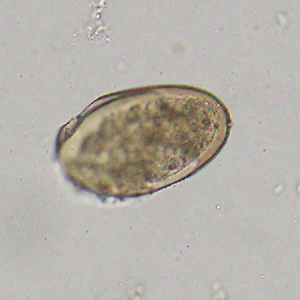Fasciola_hepatica_egg: (54, 83, 233, 198)
